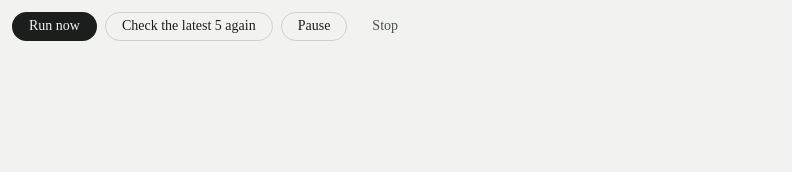
Test: Check the latest 5 again › is there for an agent that judges what it reads, and runs over the latest 5 without moving its place back
Step 1. Click the button "Check the latest 5 again" → click(189, 26), box [105,12,273,40]
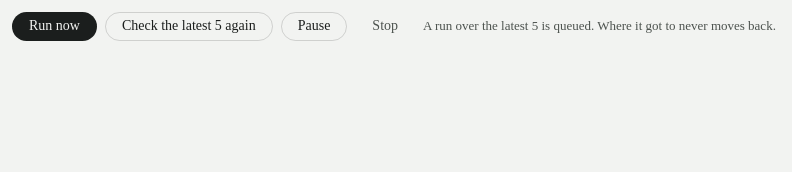
Check: the text "A run over the latest 5 is queued. Where it got to never moves back." is shown, box [423,18,776,34]
